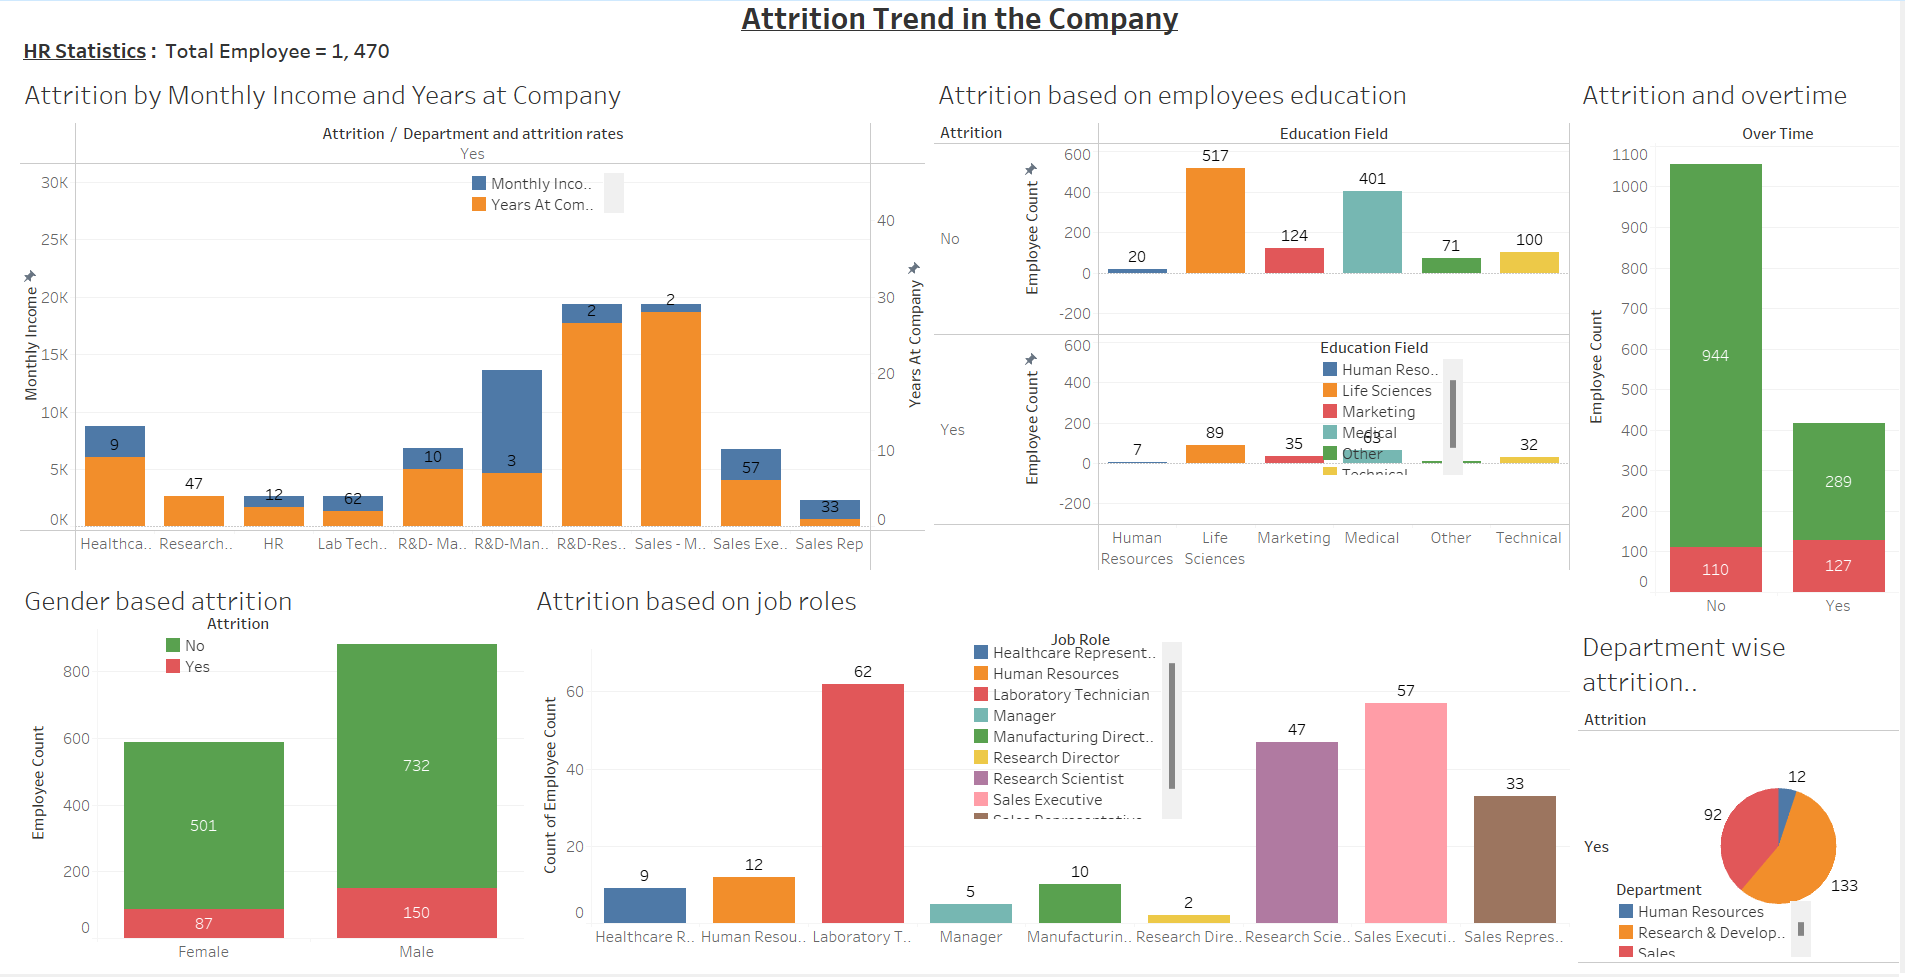

Layout of this report page (visuals, bound fields, positions):
{"tool":"tableau","page":{"name":"Attrition Trend in the Company","canvas":[1000,1000],"units":"permille","ordinal":0},"visuals":[{"type":"title","box":[4.2,7.4,991.7,71.3]},{"type":"worksheet","title":"Attrition by Monthly Income and Years at Company","mark":"Bar","rows":["MonthlyIncome","YearsAtCompany"],"cols":["Attrition","Calculation_1650850774459351041"],"box":[4.2,78.7,481.1,515.3]},{"type":"worksheet","title":"Attrition based on employees education","mark":"Automatic","rows":["Attrition","EmployeeCount"],"cols":["EducationField"],"box":[485.2,78.7,338.7,515.3]},{"type":"worksheet","title":"Attrition and overtime","mark":"Automatic","rows":["EmployeeCount"],"cols":["OverTime"],"box":[824,78.7,171.9,511.1]},{"type":"legend","title":"Attrition by Monthly Income and Years at Company","param":"[federated.14uupq6067tj62124uqkm1wr8qll].[:Measure Names]","box":[242.2,168.5,82.3,63]},{"type":"legend","title":"Attrition based on employees education","param":"[federated.14uupq6067tj62124uqkm1wr8qll].[none:EducationField:nk]","box":[689.1,356.5,76,138.9]},{"type":"worksheet","title":"Department wise attrition..","mark":"Pie","rows":["Attrition"],"box":[824,589.8,171.9,402.8]},{"type":"worksheet","title":"Gender based attrition","mark":"Automatic","rows":["EmployeeCount"],"cols":["Gender"],"box":[4.2,594,269.4,398.6]},{"type":"worksheet","title":"Attrition based on job roles","mark":"Automatic","rows":["EmployeeCount"],"cols":["JobRole"],"box":[273.6,594,550.4,398.6]},{"type":"legend","title":"Gender based attrition","param":"[federated.14uupq6067tj62124uqkm1wr8qll].[none:Attrition:nk]","box":[81.2,635.2,78.7,64.8]},{"type":"legend","title":"Attrition based on job roles","param":"[federated.14uupq6067tj62124uqkm1wr8qll].[none:JobRole:nk]","box":[505.7,641.7,112,200.9]},{"type":"legend","title":"Department wise attrition..","param":"[federated.14uupq6067tj62124uqkm1wr8qll].[none:Department:nk]","box":[844.8,902.8,103.7,78.7]}]}

Visuals, with their boxes on the dashboard's canvas, which has no fixed pixel size, in thousandths of its width and height (x1, y1, x2, y2). These are canvas units, not pixel positions in the 1905x977 screenshot, which may show the page scaled, cropped or inside an application window:
title: select_region(4, 7, 996, 79)
"Attrition by Monthly Income and Years at Company" worksheet (Bar marks): select_region(4, 79, 485, 594)
"Attrition based on employees education" worksheet: select_region(485, 79, 824, 594)
"Attrition and overtime" worksheet: select_region(824, 79, 996, 590)
"Attrition by Monthly Income and Years at Company" legend: select_region(242, 168, 324, 232)
"Attrition based on employees education" legend: select_region(689, 356, 765, 495)
"Department wise attrition.." worksheet (Pie marks): select_region(824, 590, 996, 993)
"Gender based attrition" worksheet: select_region(4, 594, 274, 993)
"Attrition based on job roles" worksheet: select_region(274, 594, 824, 993)
"Gender based attrition" legend: select_region(81, 635, 160, 700)
"Attrition based on job roles" legend: select_region(506, 642, 618, 843)
"Department wise attrition.." legend: select_region(845, 903, 948, 982)
